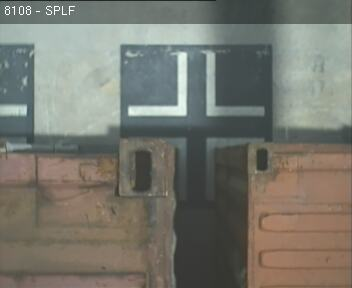groundmarker_1: (128, 53, 266, 117), (161, 138, 267, 200)
